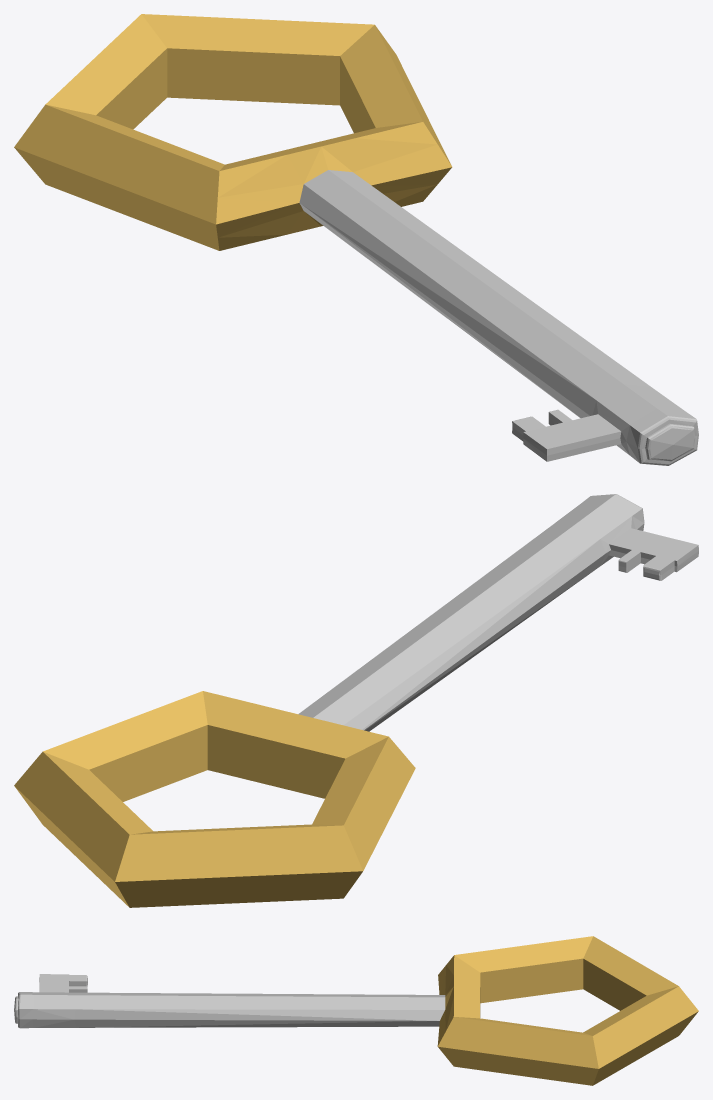
The model's file is Kunci.dae.
3 renders of one model, top to bottom at view 1: azimuth 30°, elevation 25°; view 2: azimuth 150°, elevation 25°; view 3: azimuth 270°, elevation 25°, orthographic. The views are drawn at different scales.
Parts seen in each view (by area): view 1: Torus.001; view 2: Torus.001; view 3: Torus.001.
Boxes of the visible parts, x1=… form: Torus.001: x1=14, y1=14, x2=698, y2=465; Torus.001: x1=14, y1=494, x2=698, y2=907; Torus.001: x1=14, y1=936, x2=698, y2=1085.
Bounding box in the file's own units: 0.734 × 1.83 × 0.1468.
